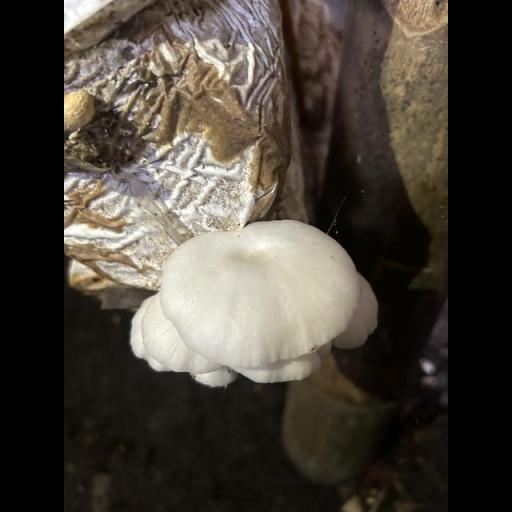White Oyster Mushroom: (126, 210, 375, 388)
